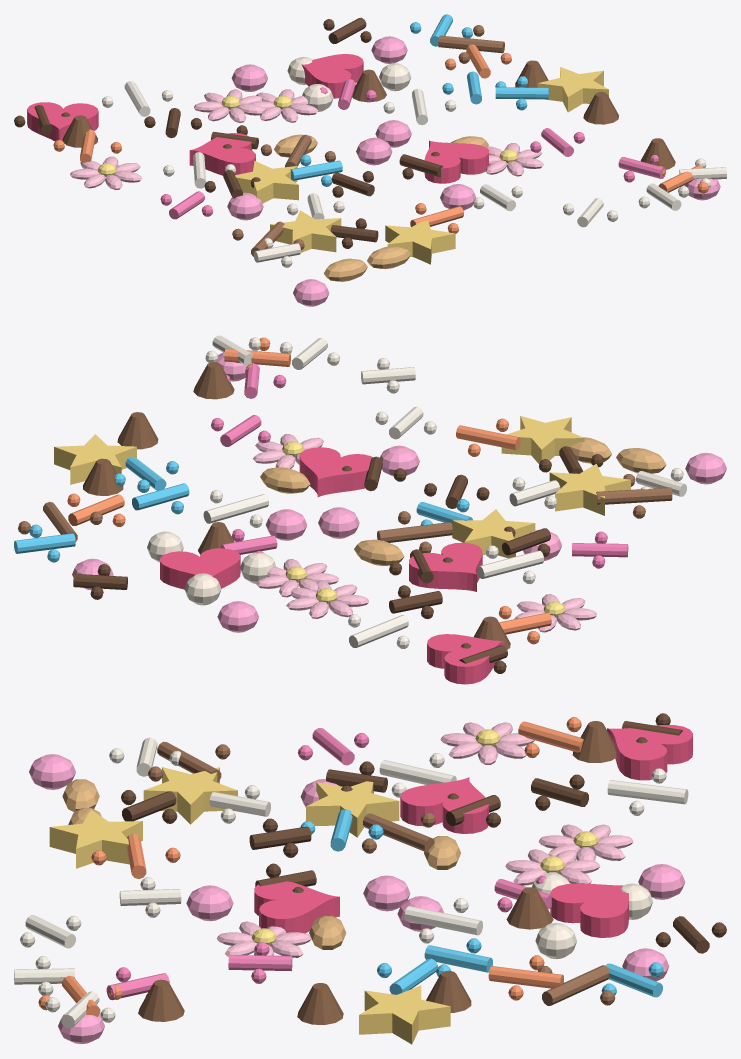
Rendered from toppings_square_1_tier.glb.
The picture shows the model from 3 angles, top to bottom: view 1: azimuth 30°, elevation 25°; view 2: azimuth 150°, elevation 25°; view 3: azimuth 270°, elevation 25°; orthographic projection. The views are drawn at different scales.
Parts seen in each view (by area): view 1: ToppingHeart_square_1_03, ToppingStar_square_1_03, ToppingStar_square_1_02, ToppingHeart_square_1_02, ToppingHeart_square_1_00, ToppingStar_square_1_01, ToppingStar_square_1_00, ToppingHeart_square_1_01, ToppingChocolateChip_square_1_00, ToppingDot_square_1_07, ToppingDot_square_1_03, ToppingDot_square_1_04 (+24 smaller); view 2: ToppingHeart_square_1_03, ToppingHeart_square_1_01, ToppingHeart_square_1_02, ToppingHeart_square_1_00, ToppingStar_square_1_00, ToppingStar_square_1_03, ToppingStar_square_1_02, ToppingStar_square_1_01, ToppingChocolateChip_square_1_02, ToppingChocolateChip_square_1_00, ToppingSprinkle_square_1_09_Body, ToppingSprinkle_square_1_04_Body (+35 smaller); view 3: ToppingHeart_square_1_00, ToppingStar_square_1_02, ToppingHeart_square_1_01, ToppingHeart_square_1_03, ToppingHeart_square_1_02, ToppingStar_square_1_03, ToppingStar_square_1_01, ToppingStar_square_1_00, ToppingChocolateChip_square_1_00, ToppingChocolateChip_square_1_02, ToppingChocolateChip_square_1_03, ToppingDot_square_1_06 (+44 smaller).
Part boxes in pixels (box(x1,y1,x2,y2)): ToppingHeart_square_1_03: box(424, 140, 488, 183); ToppingStar_square_1_03: box(385, 220, 455, 264); ToppingStar_square_1_02: box(537, 67, 608, 112); ToppingHeart_square_1_02: box(189, 133, 255, 175); ToppingHeart_square_1_00: box(301, 54, 363, 98); ToppingStar_square_1_01: box(229, 160, 298, 203); ToppingStar_square_1_00: box(270, 210, 341, 252); ToppingHeart_square_1_01: box(27, 102, 98, 141); ToppingChocolateChip_square_1_00: box(583, 92, 618, 124); ToppingDot_square_1_07: box(371, 36, 407, 63); ToppingDot_square_1_03: box(356, 137, 392, 165); ToppingDot_square_1_04: box(231, 64, 267, 91); ToppingHeart_square_1_03: box(299, 447, 372, 497); ToppingHeart_square_1_01: box(427, 634, 504, 684); ToppingHeart_square_1_02: box(409, 542, 482, 591); ToppingHeart_square_1_00: box(160, 548, 240, 589); ToppingStar_square_1_00: box(549, 464, 630, 515); ToppingStar_square_1_03: box(501, 416, 584, 464); ToppingStar_square_1_02: box(54, 434, 136, 484); ToppingStar_square_1_01: box(452, 509, 535, 558); ToppingChocolateChip_square_1_02: box(193, 362, 234, 399); ToppingChocolateChip_square_1_00: box(117, 412, 158, 449); ToppingSprinkle_square_1_09_Body: box(377, 522, 452, 542); ToppingSprinkle_square_1_04_Body: box(596, 487, 672, 504); ToppingHeart_square_1_00: box(550, 883, 628, 937); ToppingStar_square_1_02: box(359, 985, 450, 1044); ToppingHeart_square_1_01: box(607, 725, 692, 780); ToppingHeart_square_1_03: box(254, 881, 339, 933); ToppingHeart_square_1_02: box(400, 777, 488, 833); ToppingStar_square_1_03: box(49, 810, 142, 868); ToppingStar_square_1_01: box(306, 781, 399, 837); ToppingStar_square_1_00: box(143, 767, 237, 824); ToppingChocolateChip_square_1_00: box(297, 983, 343, 1024); ToppingChocolateChip_square_1_02: box(138, 979, 184, 1021); ToppingChocolateChip_square_1_03: box(506, 887, 553, 929); ToppingDot_square_1_06: box(186, 885, 233, 921).
Size of the model in its own units: 1.35 by 0.0993 by 1.3.
